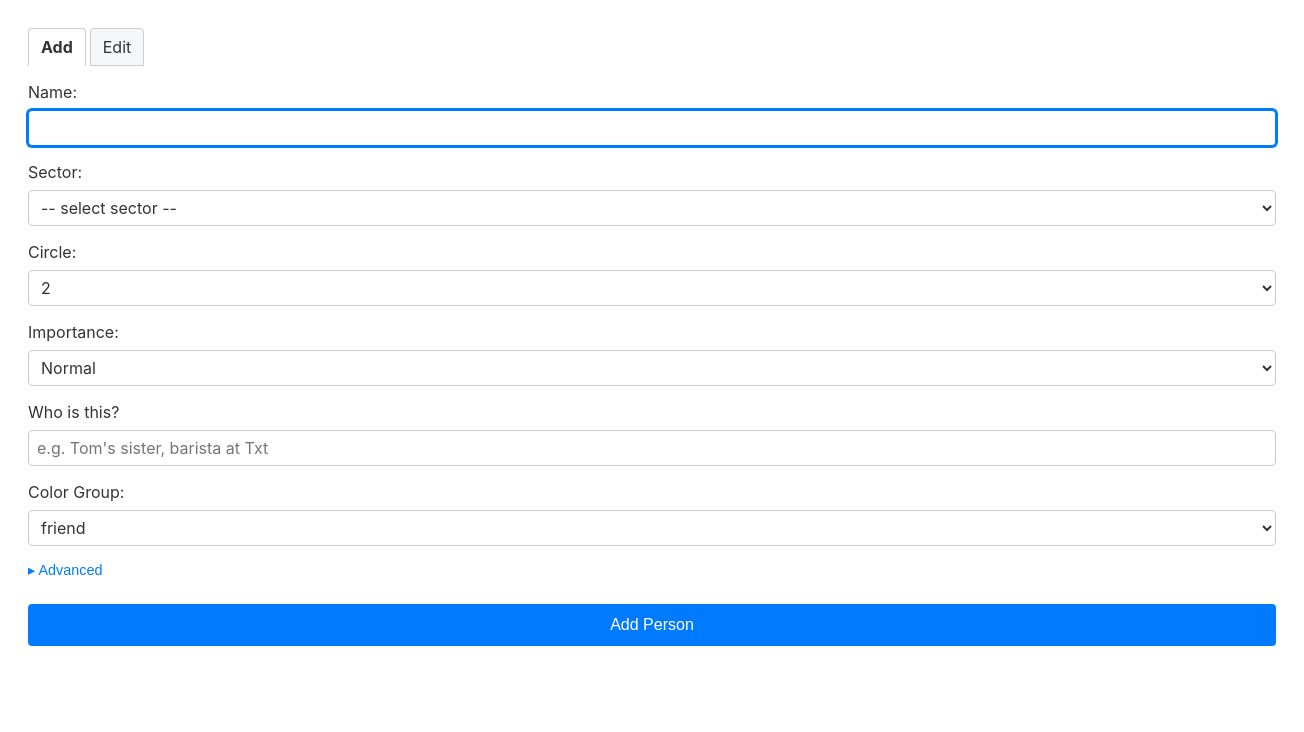
Test: Add person flow › writes the recall phrase when one is entered
Type "Sarah" into the field labelled "Name:" at [652, 128], box [28, 110, 1276, 146]
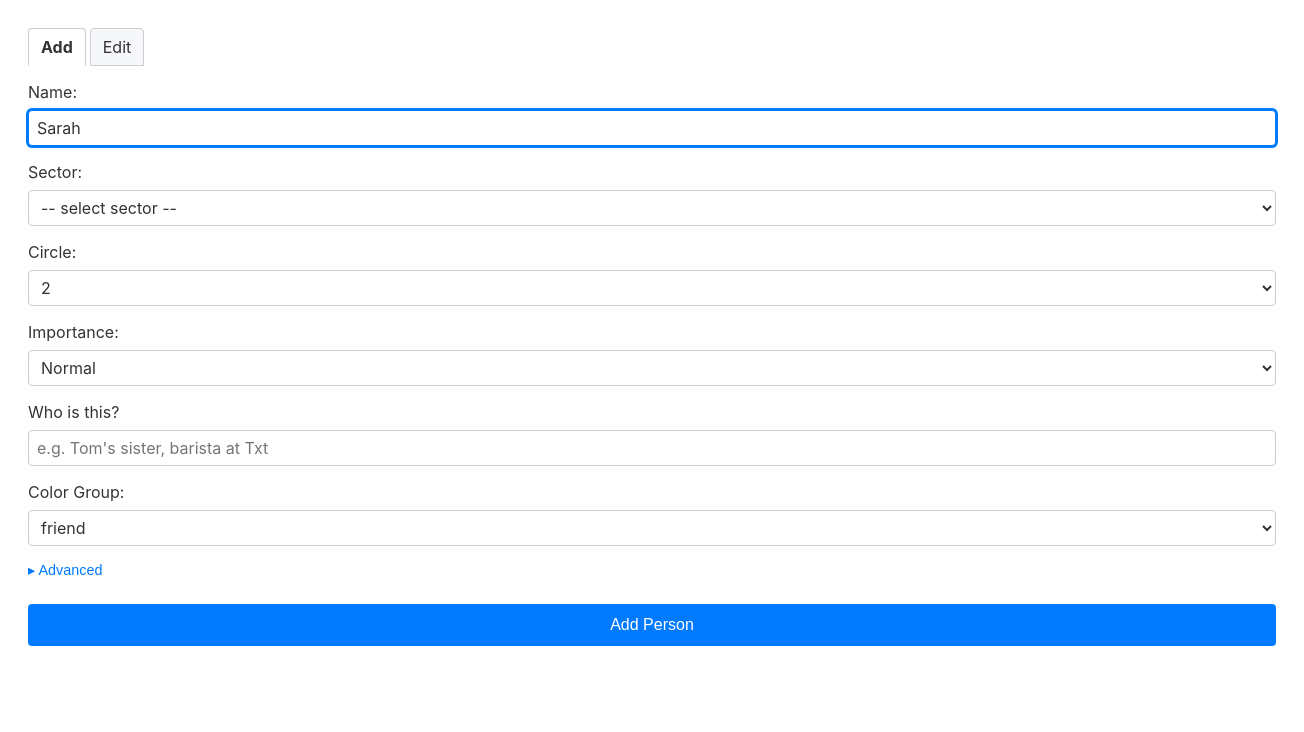
Select "Work" in the dropdown labelled "Sector:" at [652, 208], box [28, 190, 1276, 226]
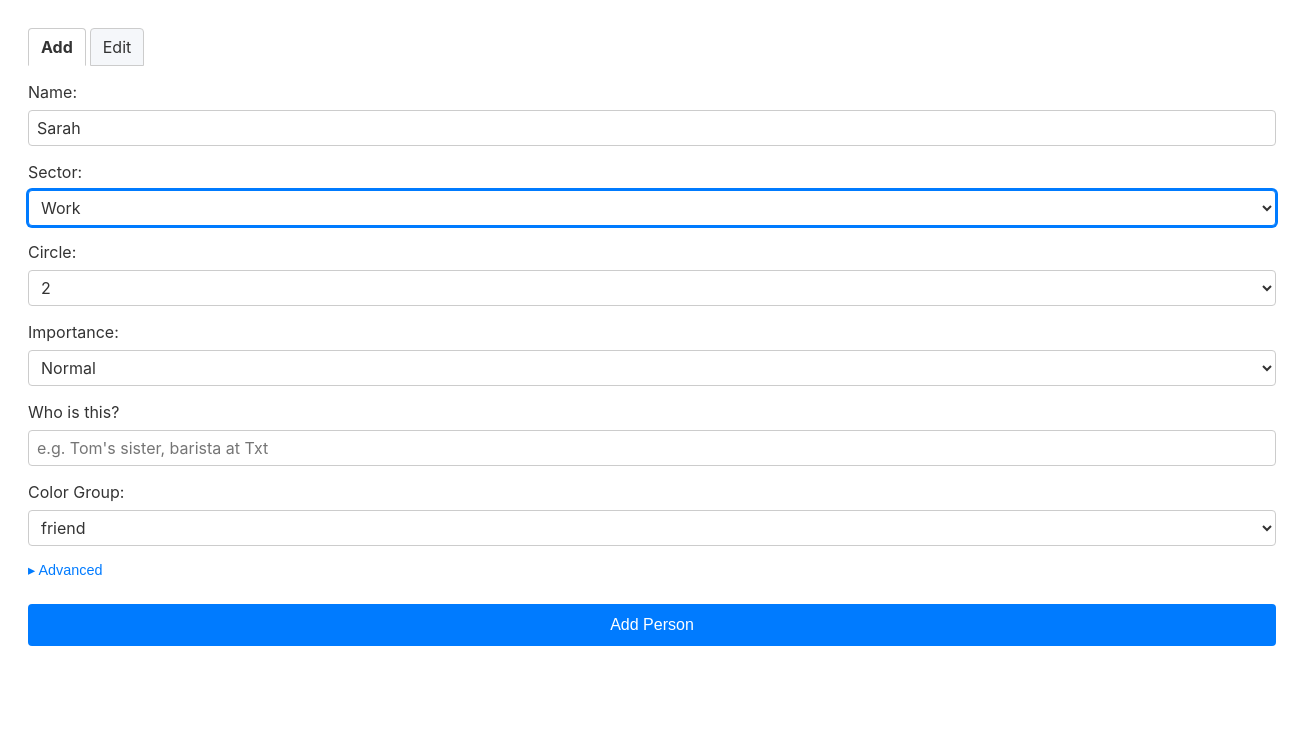
Type "Tom's sister" into the field labelled "Who is this?" at [652, 448], box [28, 430, 1276, 466]
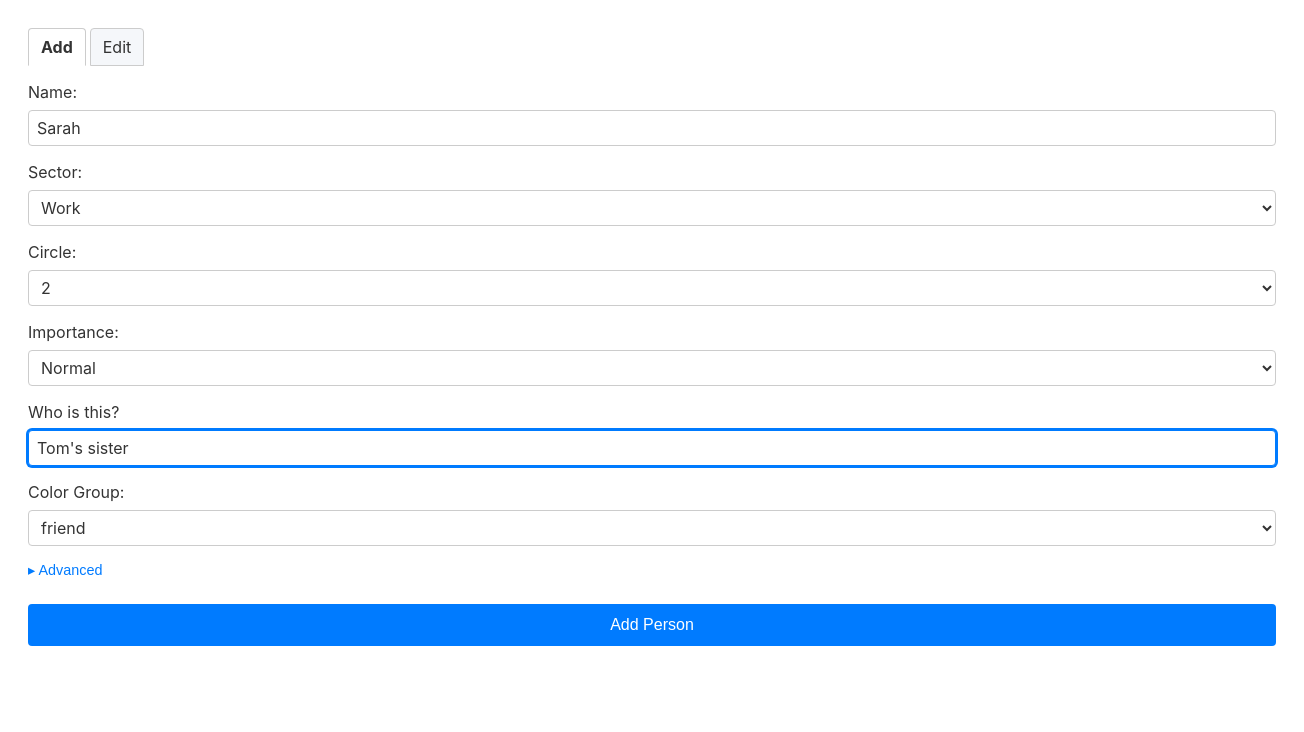
Click the button "Add Person" at [652, 625], box [28, 604, 1276, 646]
(page scrolled)
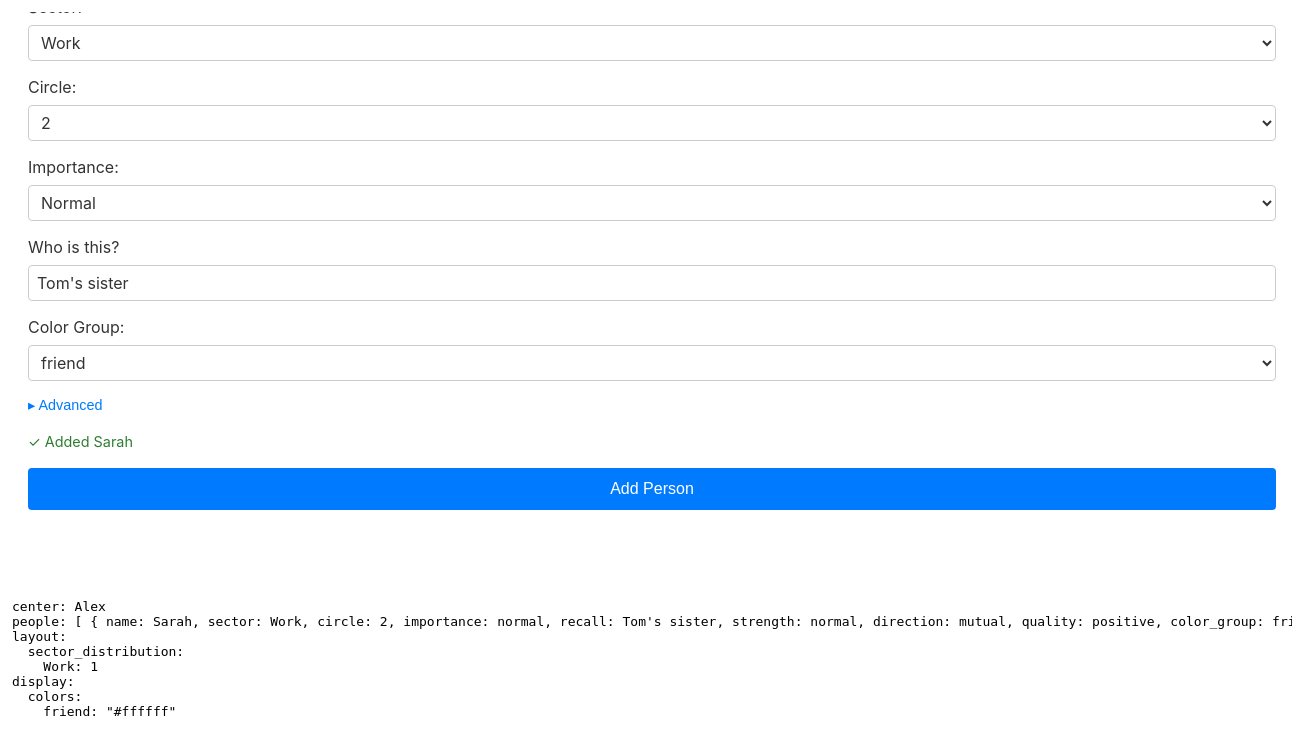
Expected: the text with test id "yaml" shows "Tom's sister", [12, 599, 1292, 719]
